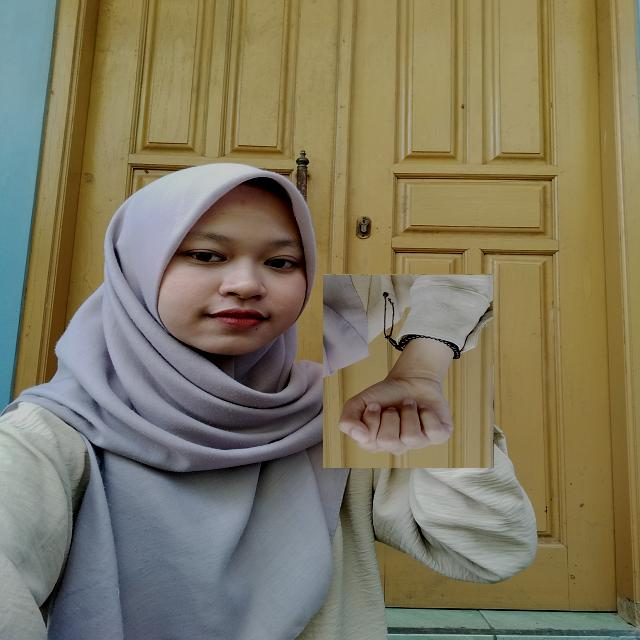baik: (323, 274, 494, 468)
